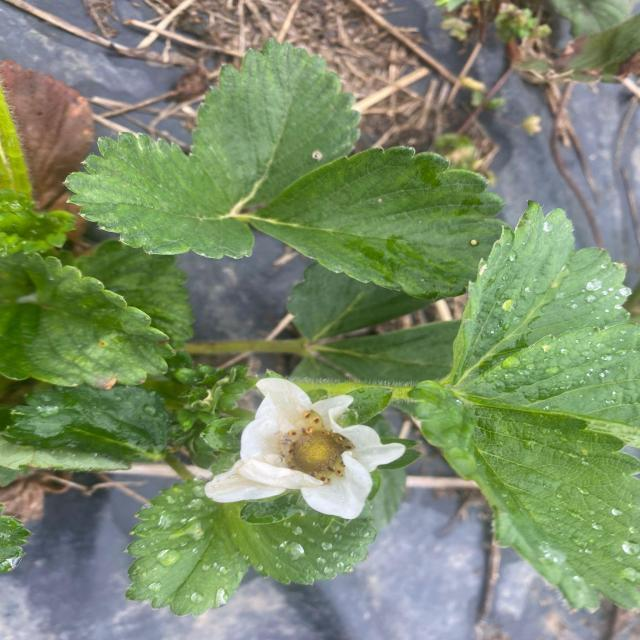flower: (199, 371, 407, 523)
